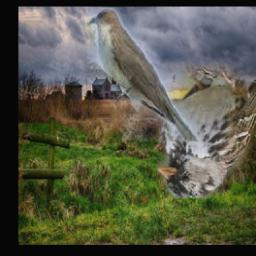Cuckoo: (87, 7, 200, 141)
Sparrow: (158, 62, 256, 199)
